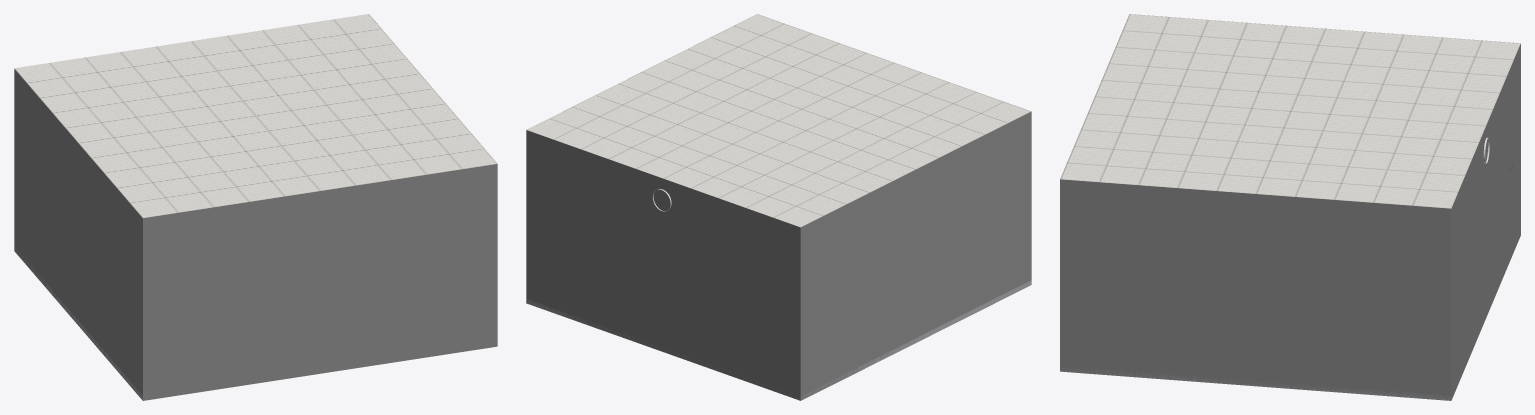
The model's file is EnvManagerOffice01.fbx.
3 renders of one model, left to right at view 1: azimuth 30°, elevation 25°; view 2: azimuth 150°, elevation 25°; view 3: azimuth 270°, elevation 25°, orthographic. The views are drawn at different scales.
Visible parts, largest first — view 1: Walls, Ceiling, Baseboard1; view 2: Walls, Ceiling, Baseboard1, Baseboard4; view 3: Walls, Ceiling, Baseboard3.
Part boxes in pixels (x1=…): Walls: x1=14, y1=69, x2=497, y2=400; Ceiling: x1=14, y1=14, x2=497, y2=218; Baseboard1: x1=14, y1=247, x2=142, y2=400; Walls: x1=526, y1=111, x2=1031, y2=400; Ceiling: x1=527, y1=14, x2=1031, y2=227; Baseboard1: x1=800, y1=280, x2=1031, y2=399; Baseboard4: x1=527, y1=299, x2=799, y2=399; Walls: x1=1060, y1=43, x2=1520, y2=400; Ceiling: x1=1060, y1=14, x2=1520, y2=208; Baseboard3: x1=1060, y1=367, x2=1451, y2=400.
Size of the model in its own units: 526 by 244 by 526.
